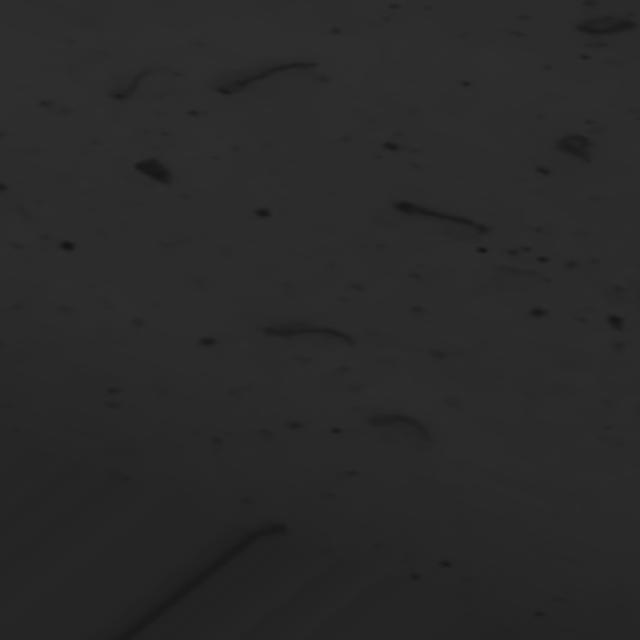larvas: (396, 194, 482, 235), (225, 56, 315, 94), (371, 406, 432, 438), (111, 66, 151, 102), (559, 125, 595, 165), (580, 13, 628, 41), (274, 322, 342, 341), (253, 516, 286, 541)
